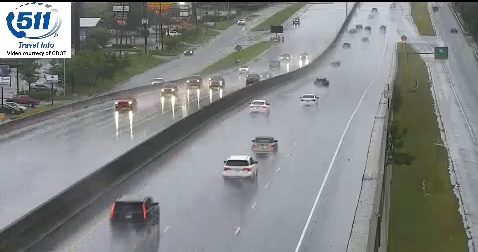car: (111, 196, 161, 228), (223, 155, 257, 179), (251, 136, 277, 155), (249, 99, 269, 115), (300, 93, 318, 107), (314, 77, 329, 88)
